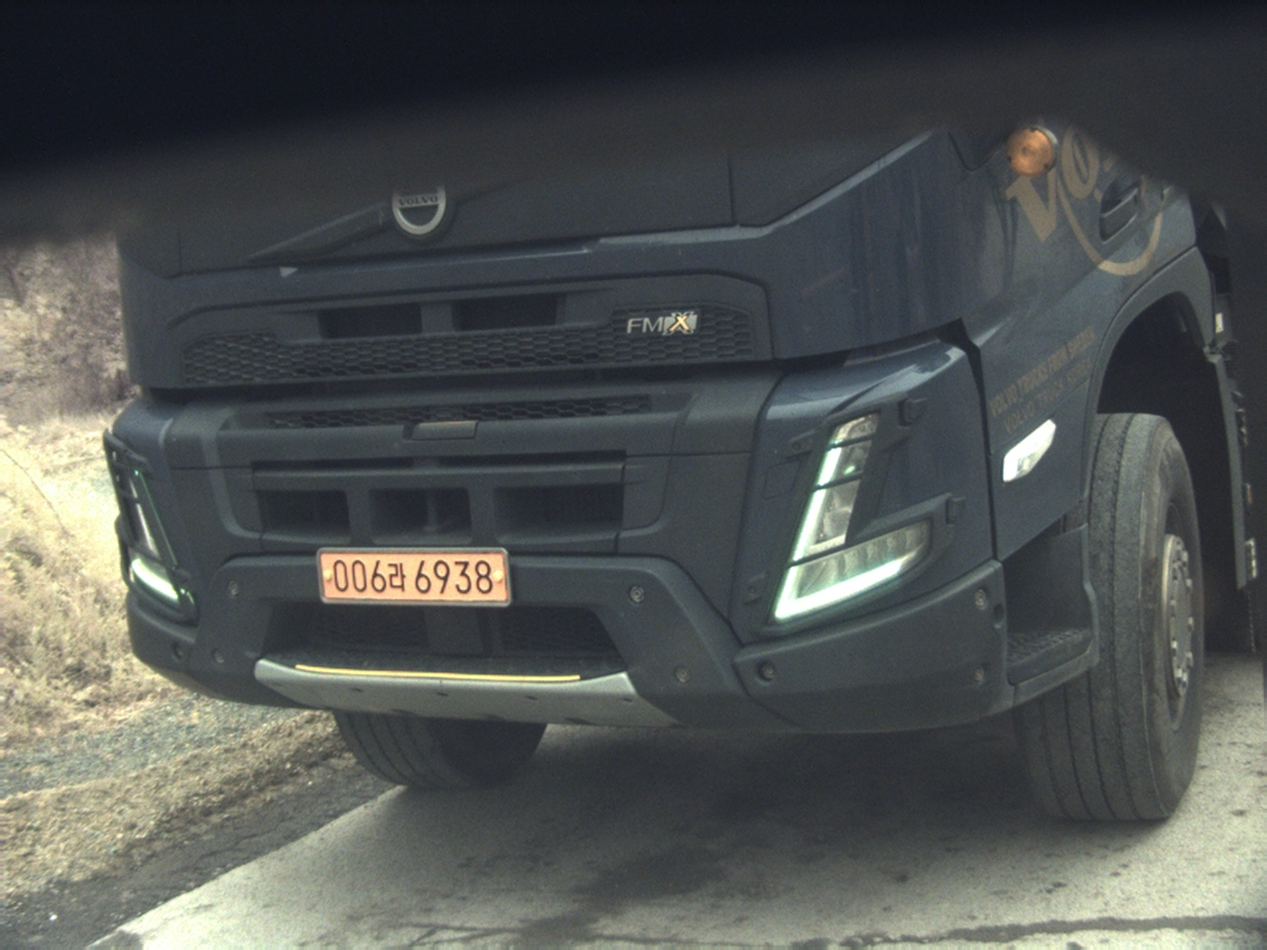license_plate: (319, 549, 510, 605)
truck: (106, 122, 1255, 818)
